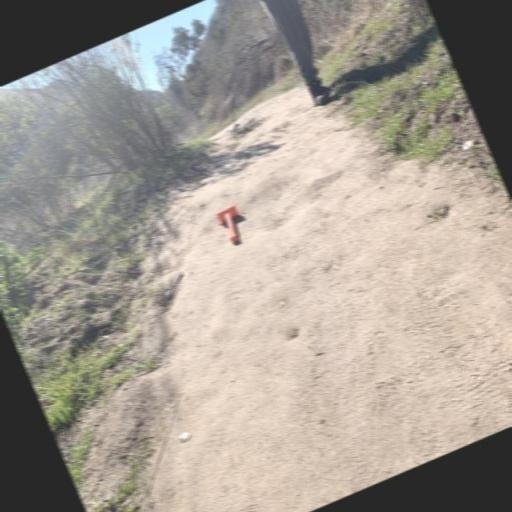mallet: (214, 201, 248, 246)
